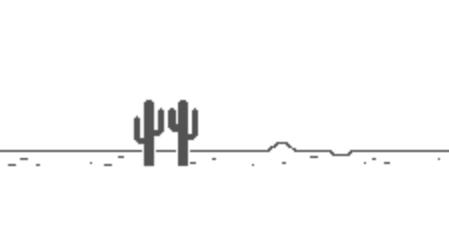dead-t-rex: (130, 96, 202, 169)
